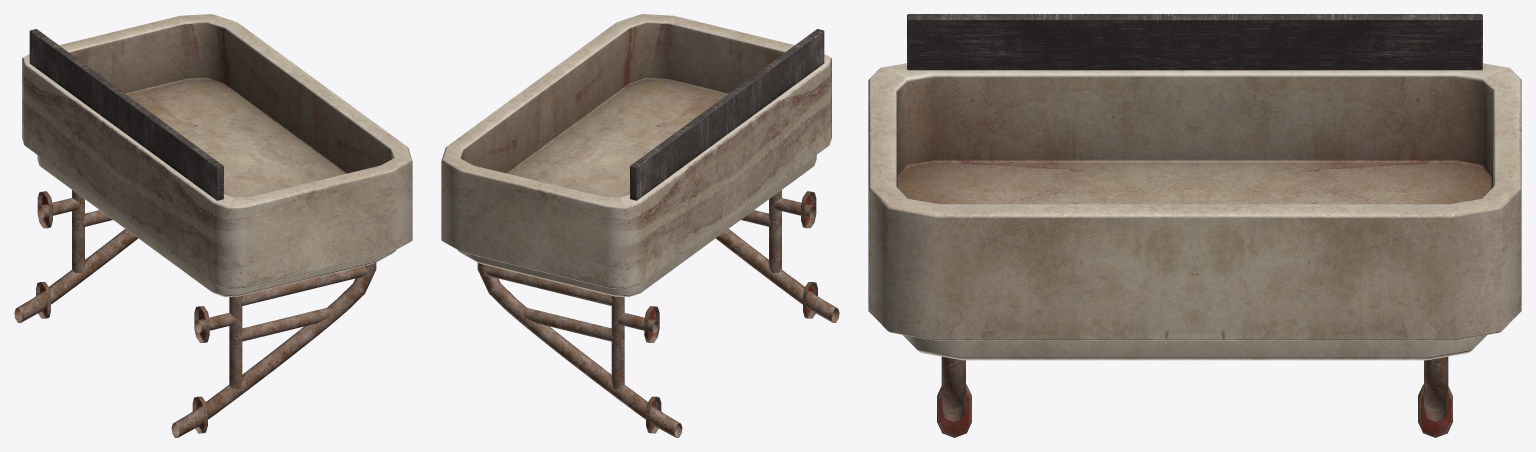
Rendered from SM_Sink.fbx.
3 renders of one model, left to right at view 1: azimuth 30°, elevation 25°; view 2: azimuth 150°, elevation 25°; view 3: azimuth 270°, elevation 25°, orthographic. The views are drawn at different scales.
Visible parts, largest first — view 1: SM_Sink_LOD0; view 2: SM_Sink_LOD0; view 3: SM_Sink_LOD0.
Boxes of the visible parts, x1,y1,x2,y2 form: SM_Sink_LOD0: (14,14,412,437); SM_Sink_LOD0: (441,14,839,437); SM_Sink_LOD0: (868,14,1521,437).
Bounding box in the file's own units: 45.14 × 73.31 × 52.54.
1 material, 1 textured.
